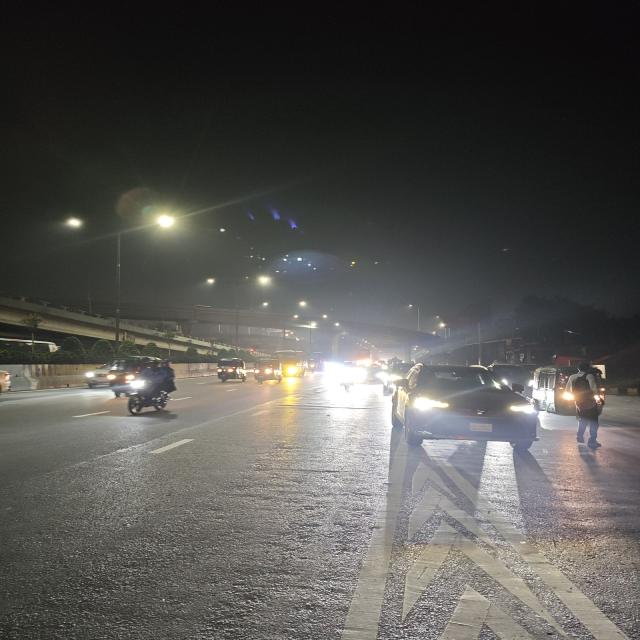bus: (282, 350, 308, 378)
car: (386, 360, 544, 458), (83, 361, 119, 391)
cng: (210, 352, 247, 386), (251, 354, 287, 384)
motorcycle: (121, 362, 183, 425)
pedestrian: (566, 364, 612, 459)
